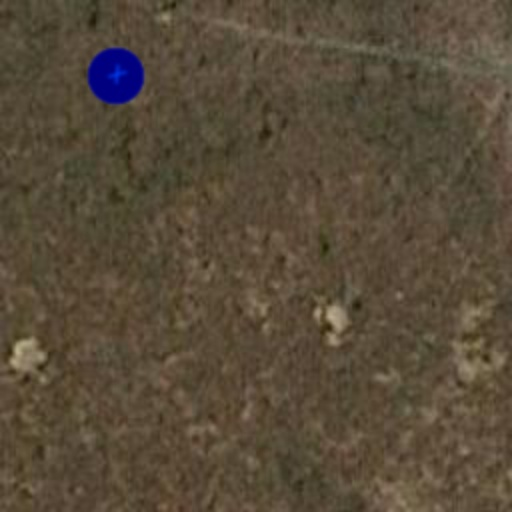circle: (74, 34, 158, 118)
